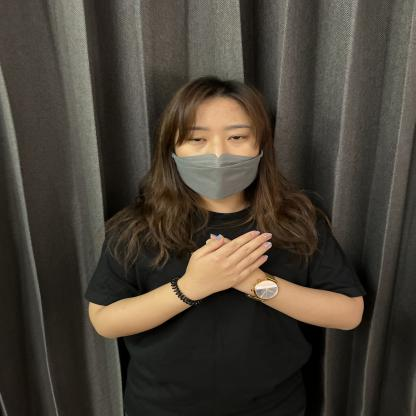Grieve: (133, 216, 326, 324)
